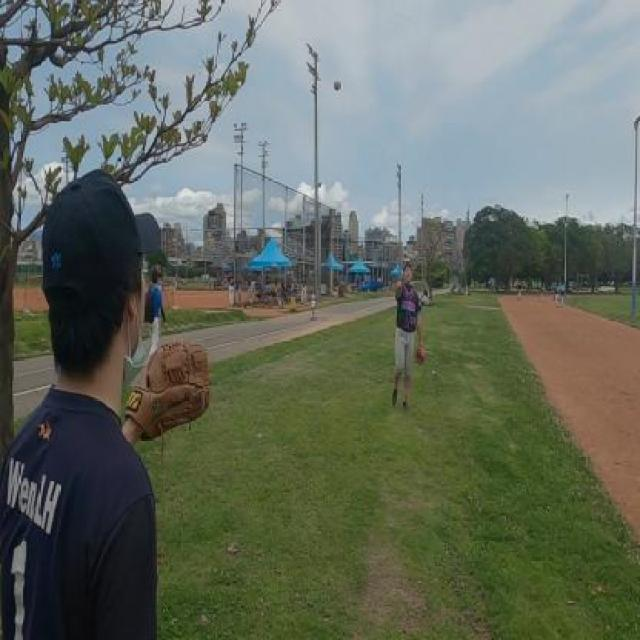baseball: (334, 78, 340, 91)
